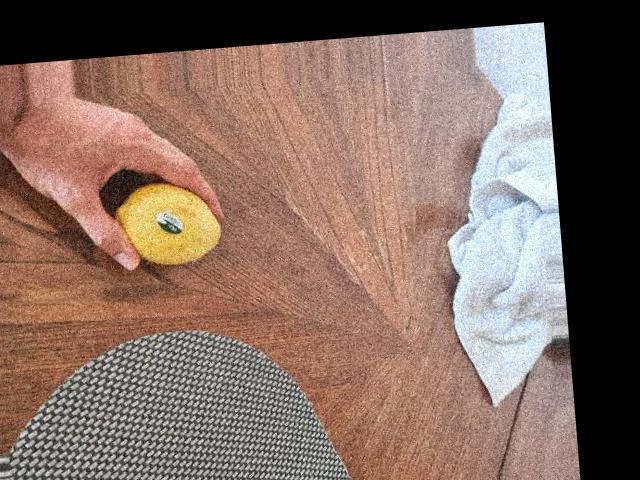lemon: (109, 183, 227, 267)
